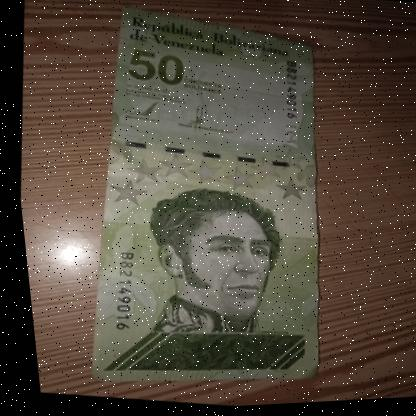fifty-front-vef: (50, 0, 354, 409)
